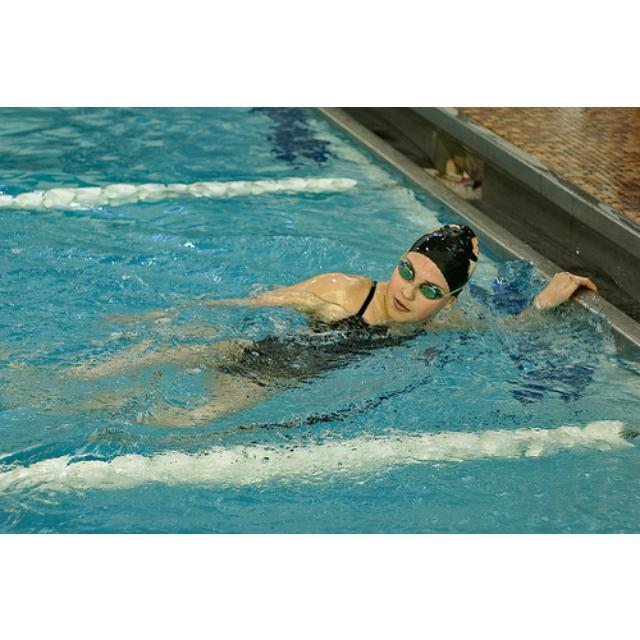human: (126, 219, 483, 431)
